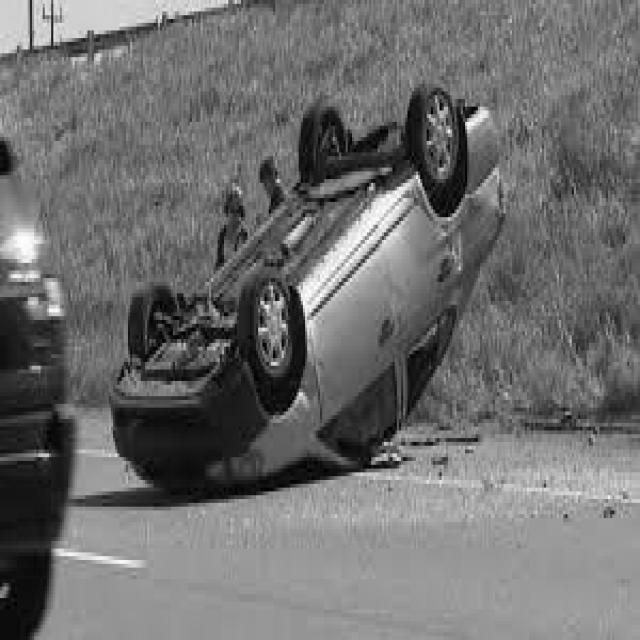accident: (106, 80, 512, 499)
vehicle: (0, 126, 73, 640)
